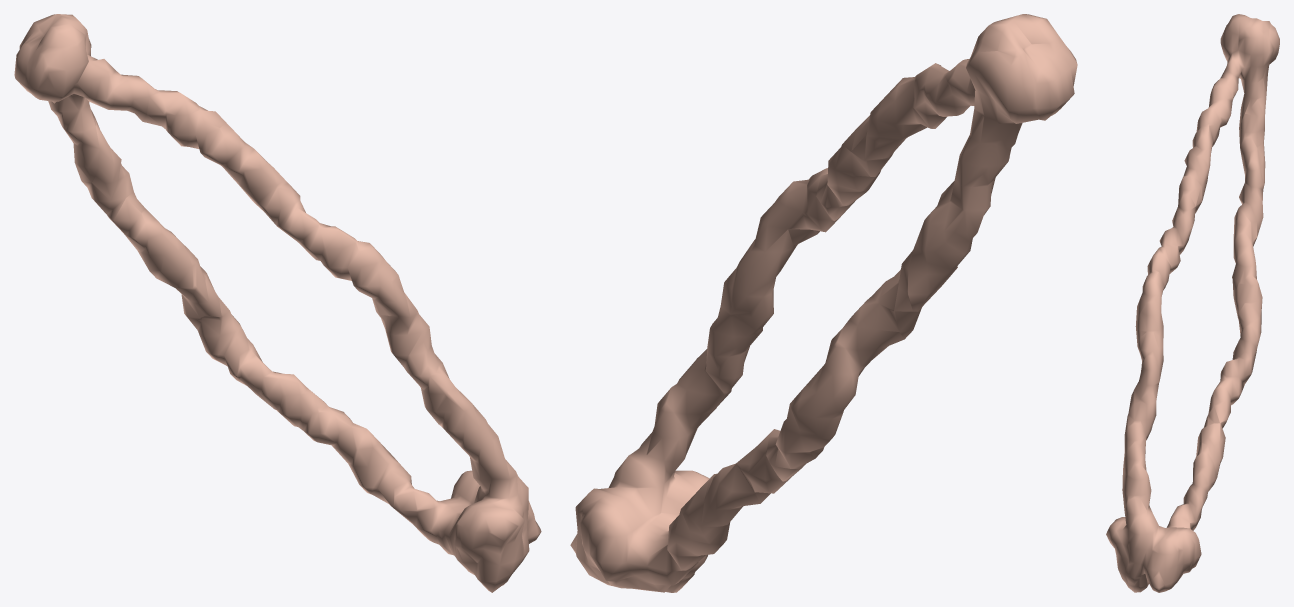
Rendered from smc_model_cms.dae.
3 views of the same model, side by side, from view 1: azimuth 30°, elevation 25°; view 2: azimuth 150°, elevation 25°; view 3: azimuth 270°, elevation 25° (orthographic). The views are drawn at different scales.
Visible parts, largest first — view 1: CoarseMS_smc_model; view 2: CoarseMS_smc_model; view 3: CoarseMS_smc_model.
Boxes of the visible parts, x1,y1,x2,y2 form: CoarseMS_smc_model: [14, 14, 541, 592]; CoarseMS_smc_model: [570, 14, 1077, 592]; CoarseMS_smc_model: [1106, 14, 1279, 592].
Size of the model in its own units: 3.74 by 4.68 by 1.66.
